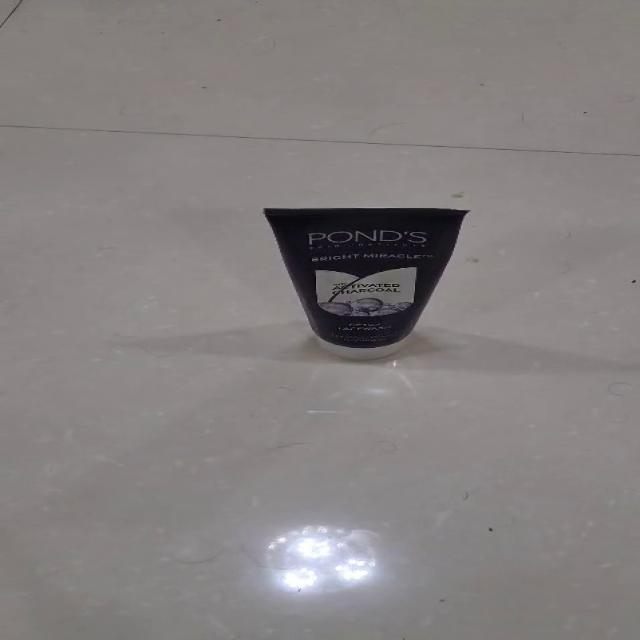plastic: (261, 205, 470, 360)
